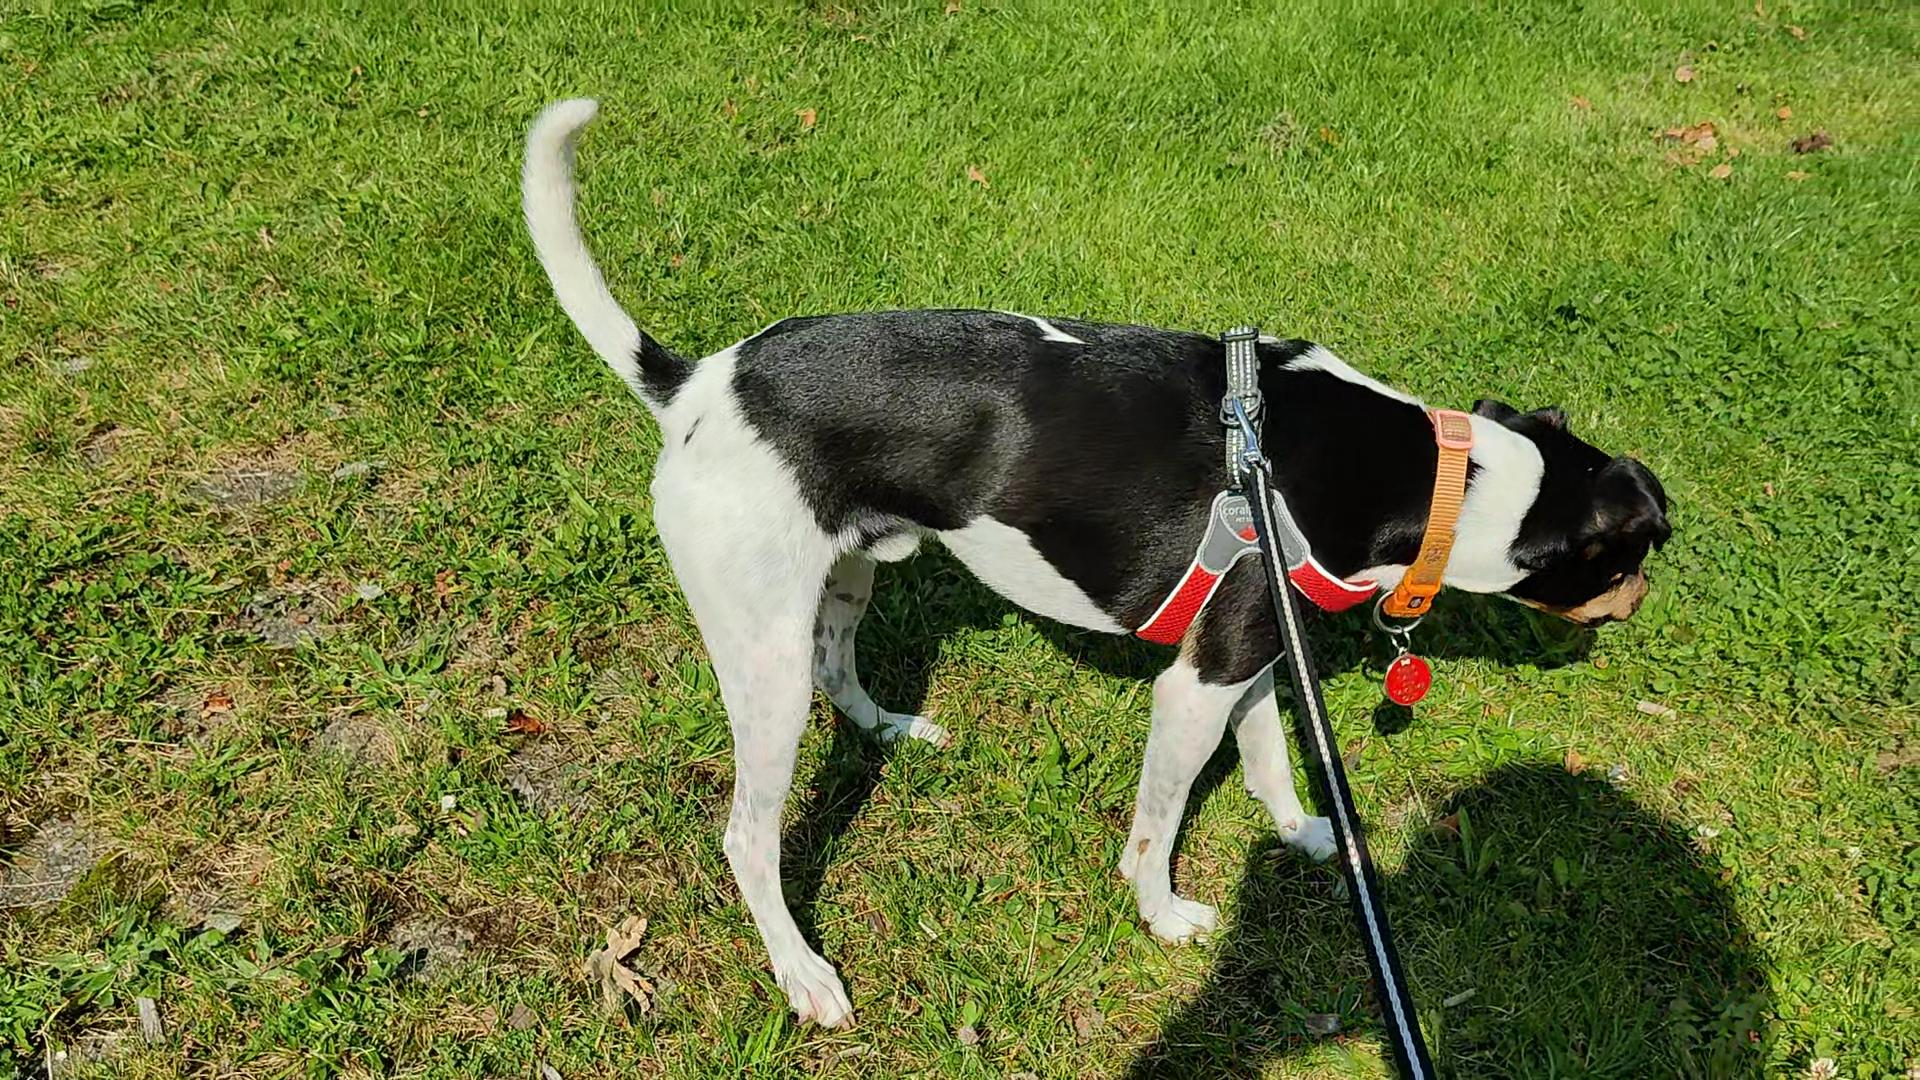Dog: (501, 91, 1677, 1035)
